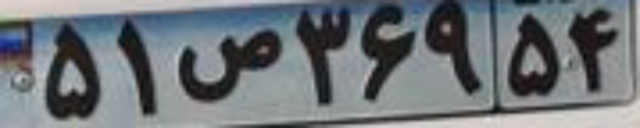1: (115, 19, 158, 114)
3: (294, 4, 351, 104)
4: (567, 8, 623, 92)
5: (41, 22, 103, 120), (503, 11, 560, 97)
6: (358, 4, 414, 102)
9: (424, 2, 479, 94)
saat: (170, 27, 285, 102)
